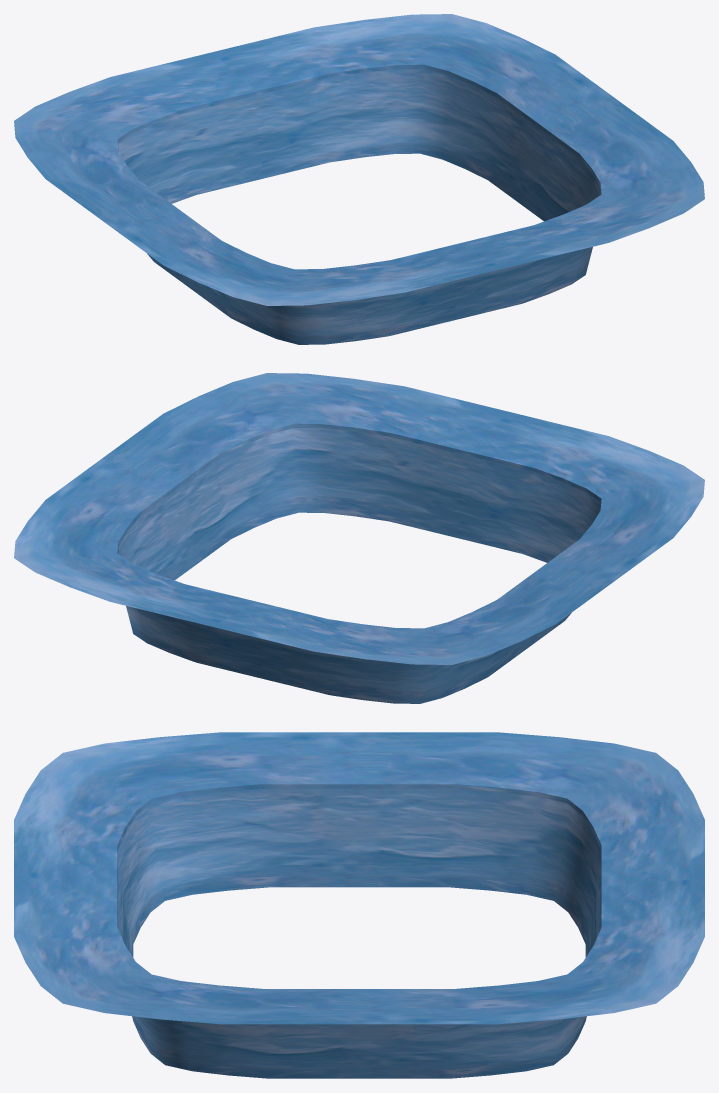
Rendered from IceShelf.fbx.
3 views of the same model, one above another, from view 1: azimuth 30°, elevation 25°; view 2: azimuth 150°, elevation 25°; view 3: azimuth 270°, elevation 25° (orthographic). The views are drawn at different scales.
Visible parts, largest first — view 1: pPlane1; view 2: pPlane1; view 3: pPlane1.
Part boxes in pixels (x1=…): pPlane1: x1=14, y1=14, x2=704, y2=344; pPlane1: x1=14, y1=373, x2=704, y2=703; pPlane1: x1=14, y1=732, x2=704, y2=1078.
Size of the model in its own units: 7135 by 1194 by 7135.
